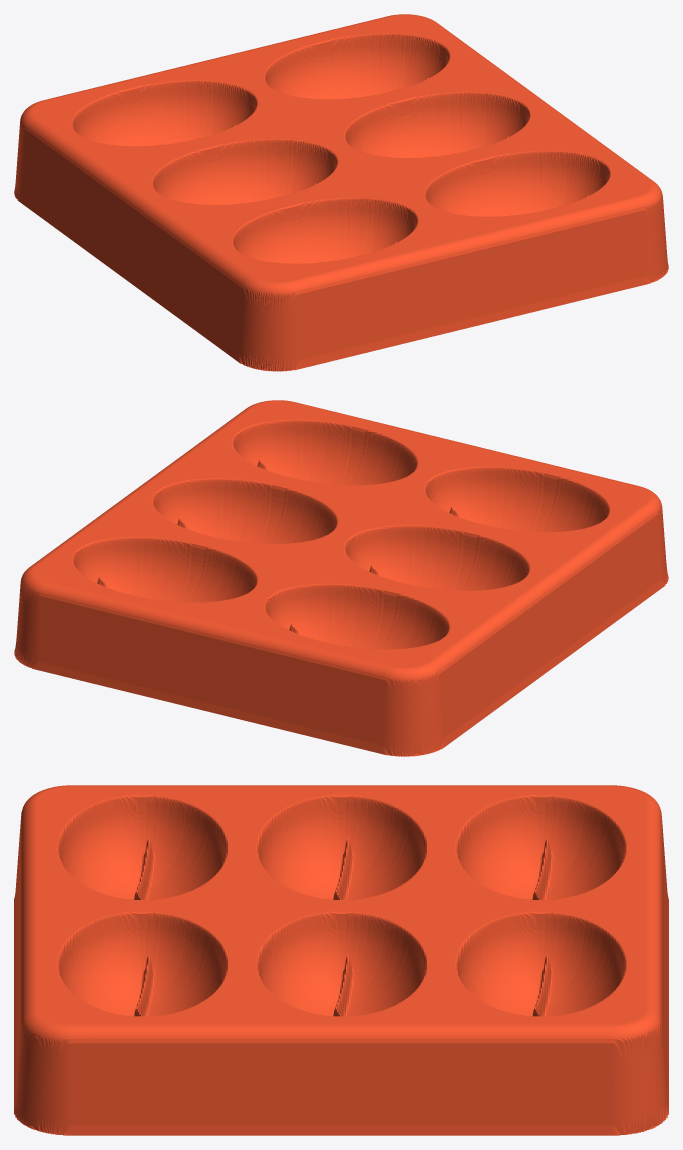
File: mold.glb
3 renders of one model, top to bottom at view 1: azimuth 30°, elevation 25°; view 2: azimuth 150°, elevation 25°; view 3: azimuth 270°, elevation 25°, orthographic. The views are drawn at different scales.
Visible parts, largest first — view 1: geometry_0; view 2: geometry_0; view 3: geometry_0.
Part boxes in pixels (x1,y1,x2,y2): geometry_0: [14, 14, 668, 371]; geometry_0: [14, 400, 668, 756]; geometry_0: [14, 785, 668, 1135].
Bounding box in the file's own units: 0.0955 × 0.0175 × 0.1026.
